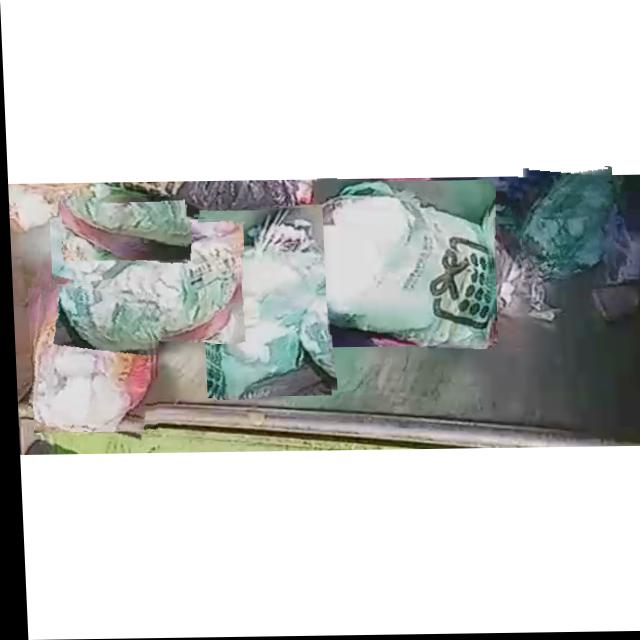general_trashbag: (314, 182, 490, 350), (51, 219, 236, 341), (204, 209, 322, 400), (518, 170, 611, 279)
other_trashbag: (29, 283, 150, 431), (59, 201, 182, 261)
